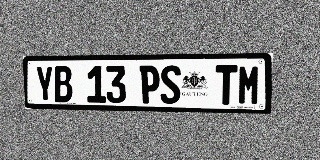1: (86, 66, 106, 103)
3: (106, 66, 126, 103)
B: (53, 66, 73, 102)
M: (238, 65, 261, 105)
P: (139, 65, 160, 104)
S: (160, 65, 181, 104)
T: (215, 65, 237, 105)
Y: (35, 66, 54, 102)
